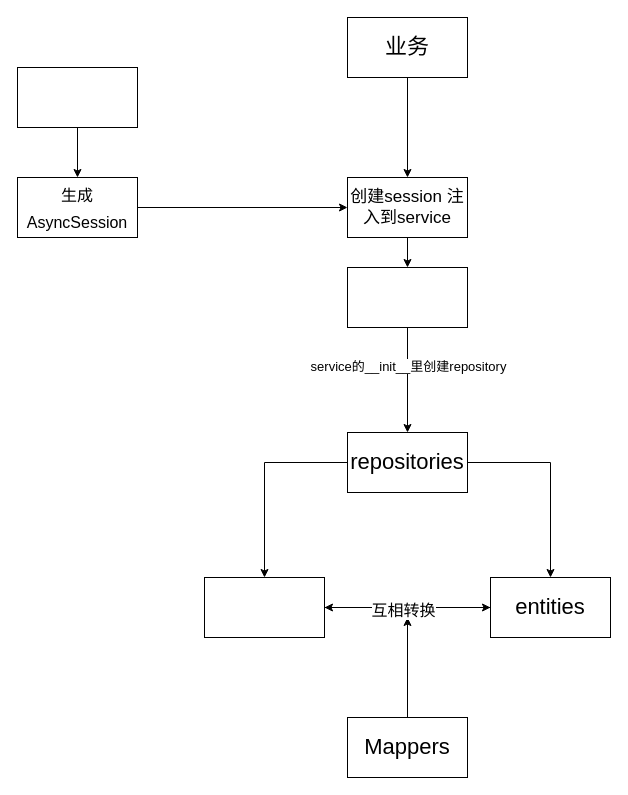
The diagram is 628 pixels wide and 795 high, and some of its shapes have lost their labels. The shapes that lost their labels are listed below. From the top down, each one's centre as x and y in pixels, then its label:
At point (77, 97): "client".
At point (407, 297): "调用service类方法".
At point (264, 607): "models".
